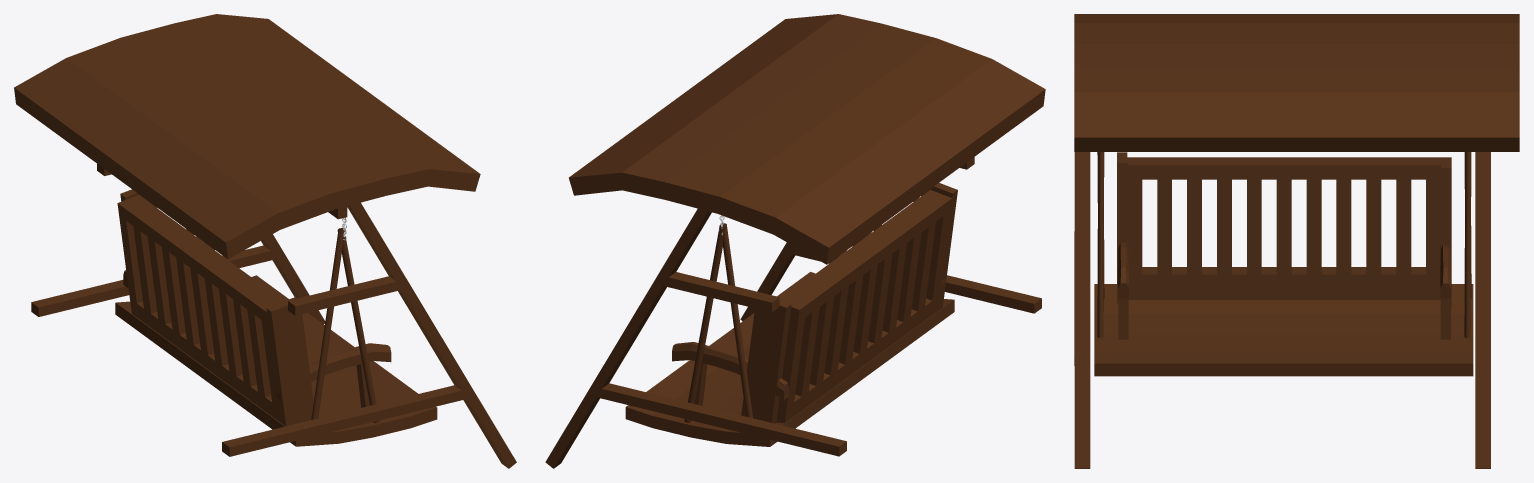
The model's file is swing1.glb.
3 renders of one model, left to right at view 1: azimuth 30°, elevation 25°; view 2: azimuth 150°, elevation 25°; view 3: azimuth 270°, elevation 25°, orthographic. The views are drawn at different scales.
Visible parts, largest first — view 1: Cube.006, Cube.014, Cube.002, Cube, Cube.003, Cube.004, Cylinder.004, Cylinder.001, Cube.001; view 2: Cube.006, Cube.014, Cube.003, Cube.001, Cube.005, Cube.002, Cylinder.003, Cylinder.002, Cube; view 3: Cube.014, Cube.006, Cube, Cube.001, Cylinder.002, Cylinder.001.
Boxes of the visible parts, x1=… form: Cube.006: x1=14, y1=14, x2=480, y2=259; Cube.014: x1=115, y1=189, x2=437, y2=446; Cube.002: x1=222, y1=385, x2=472, y2=456; Cube: x1=347, y1=202, x2=516, y2=468; Cube.003: x1=31, y1=245, x2=276, y2=316; Cube.004: x1=288, y1=276, x2=406, y2=315; Cylinder.004: x1=311, y1=228, x2=344, y2=419; Cylinder.001: x1=337, y1=228, x2=379, y2=423; Cube.001: x1=261, y1=234, x2=325, y2=324; Cube.006: x1=569, y1=14, x2=1045, y2=264; Cube.014: x1=625, y1=183, x2=957, y2=446; Cube.003: x1=591, y1=383, x2=846, y2=456; Cube.001: x1=545, y1=208, x2=711, y2=468; Cube.005: x1=658, y1=272, x2=779, y2=312; Cube.002: x1=792, y1=247, x2=1041, y2=313; Cylinder.003: x1=720, y1=223, x2=752, y2=418; Cylinder.002: x1=684, y1=224, x2=726, y2=422; Cube: x1=740, y1=242, x2=795, y2=321; Cube.014: x1=1094, y1=152, x2=1473, y2=376; Cube.006: x1=1074, y1=14, x2=1519, y2=151; Cube: x1=1074, y1=152, x2=1090, y2=468; Cube.001: x1=1475, y1=152, x2=1490, y2=468; Cylinder.002: x1=1464, y1=152, x2=1471, y2=337; Cylinder.001: x1=1097, y1=152, x2=1104, y2=337.
Bounding box in the file's own units: 1.59 × 1.67 × 2.
